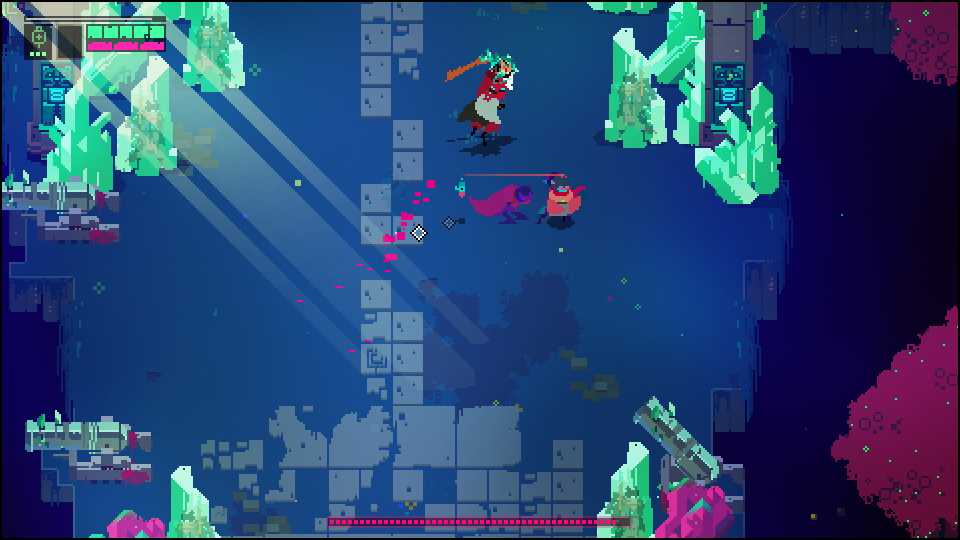hanged_man: (460, 46, 524, 151)
player: (540, 177, 584, 229)
